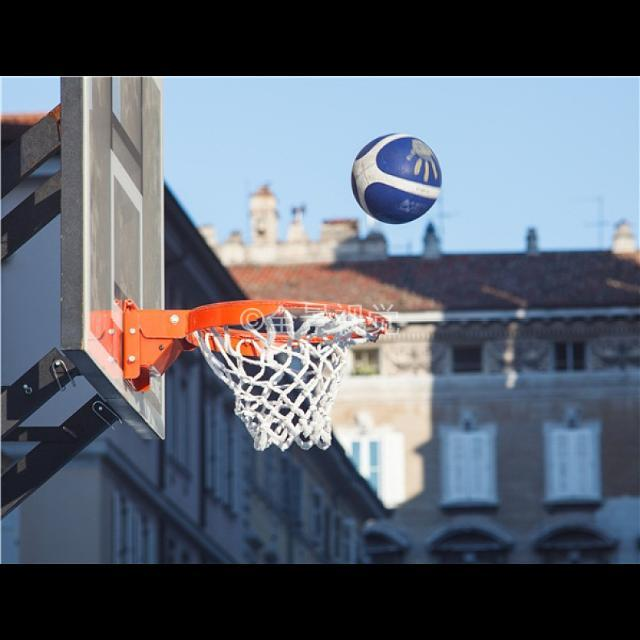basketball: (352, 133, 442, 225)
rim: (188, 301, 388, 451)
